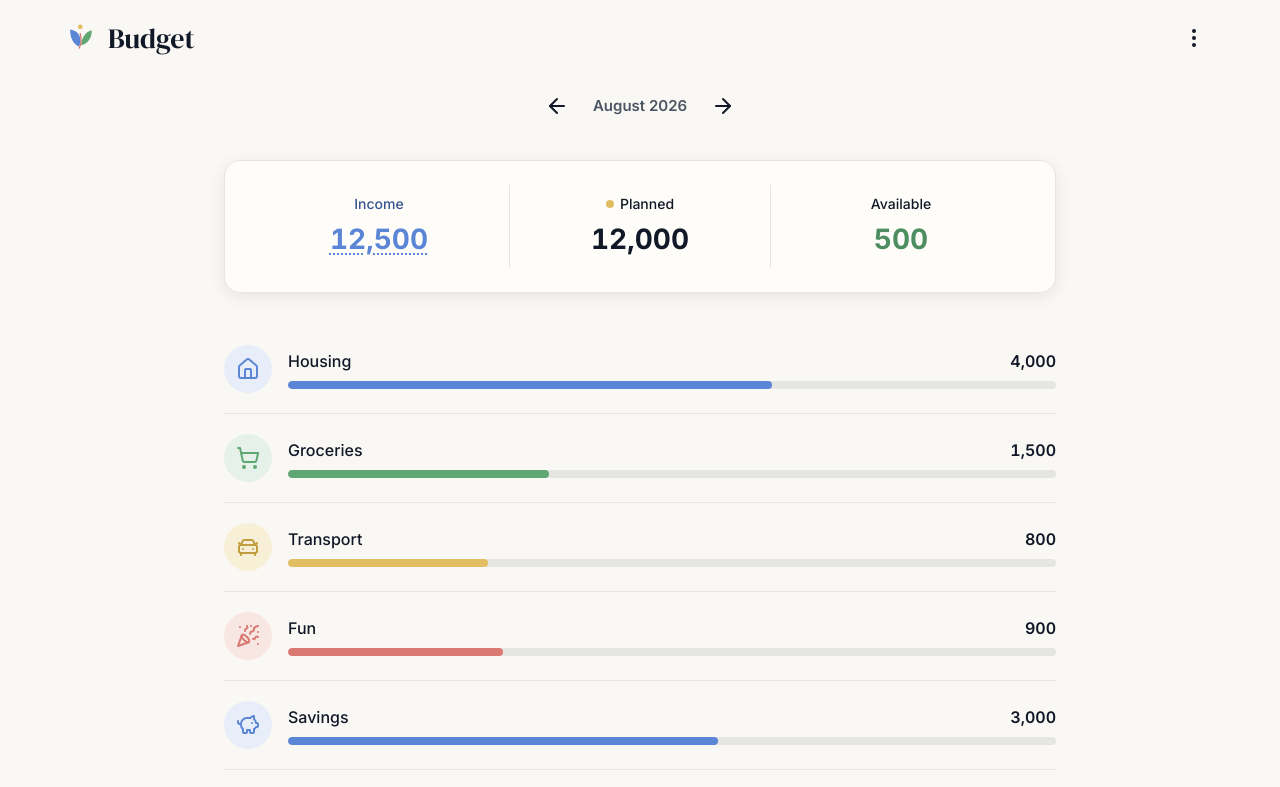
Scenario: BudgetPage › shows per-month actuals over the same plans when navigating months (CR1-11)
Expected: the button "12,500" is shown, [322,214,436,264]
Step 1. Click the button named "Previous month" → (556, 106), box [534,84,578,128]
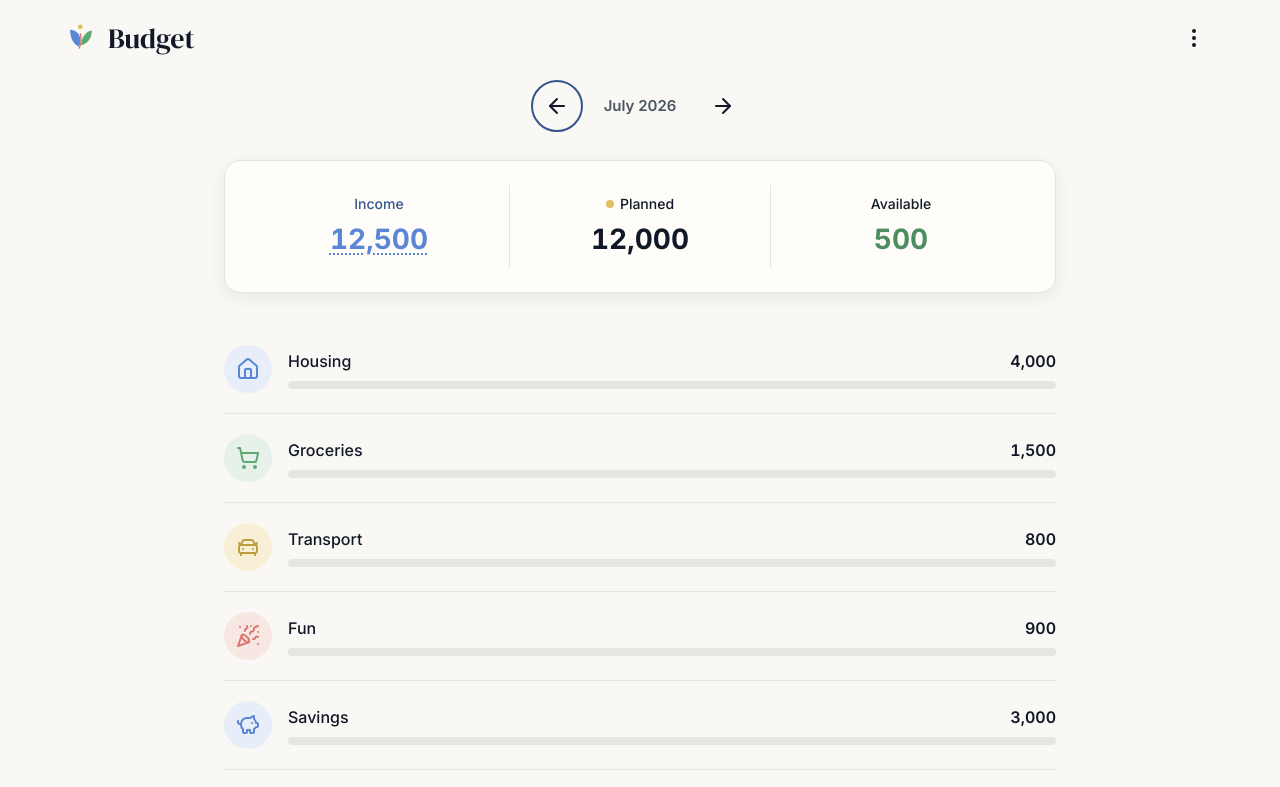
Expected: the text "12,000" is shown, [591,218,689,260]
Expected: the button named "Housing: 0 spent of 4,000 planned, 0%, edit planned amount" is shown, [288,341,1056,397]
